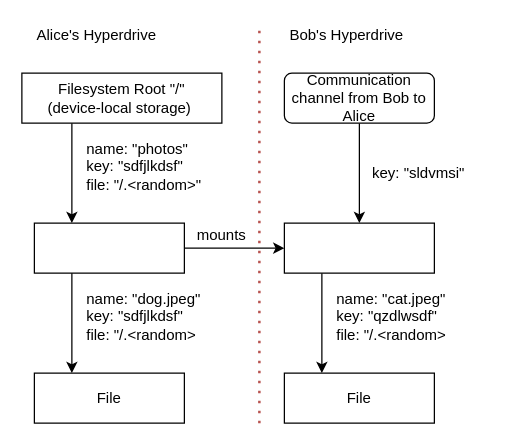
The diagram is 506 pixels wide and 446 high, and some of its shapes have lost their labels. The shapes that lost their labels are listed below. From the top down, each one's centre as x and y in pixels, then its label:
the point at 108,247: Directory
the point at 358,247: Share "my cat"
